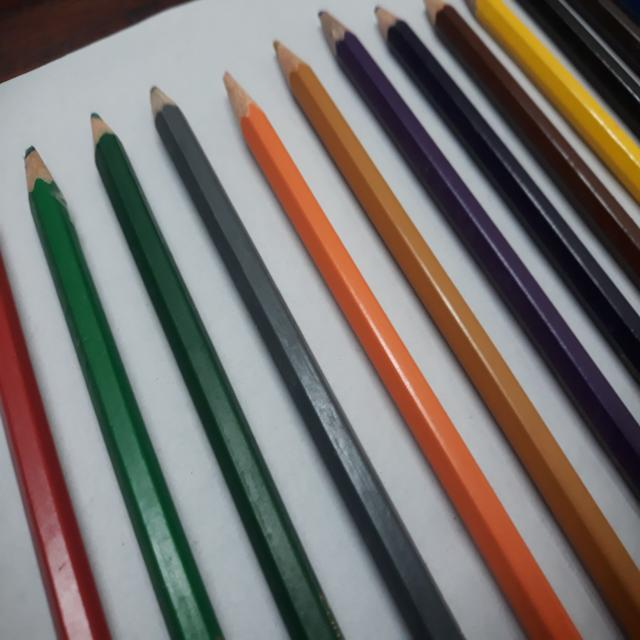pencil: (257, 22, 640, 639), (201, 56, 587, 640), (130, 68, 487, 640), (291, 4, 640, 522), (67, 87, 355, 638), (5, 128, 234, 640), (360, 0, 640, 394), (408, 0, 640, 298), (0, 242, 122, 640), (461, 0, 637, 210), (520, 1, 639, 136), (564, 2, 640, 80)
